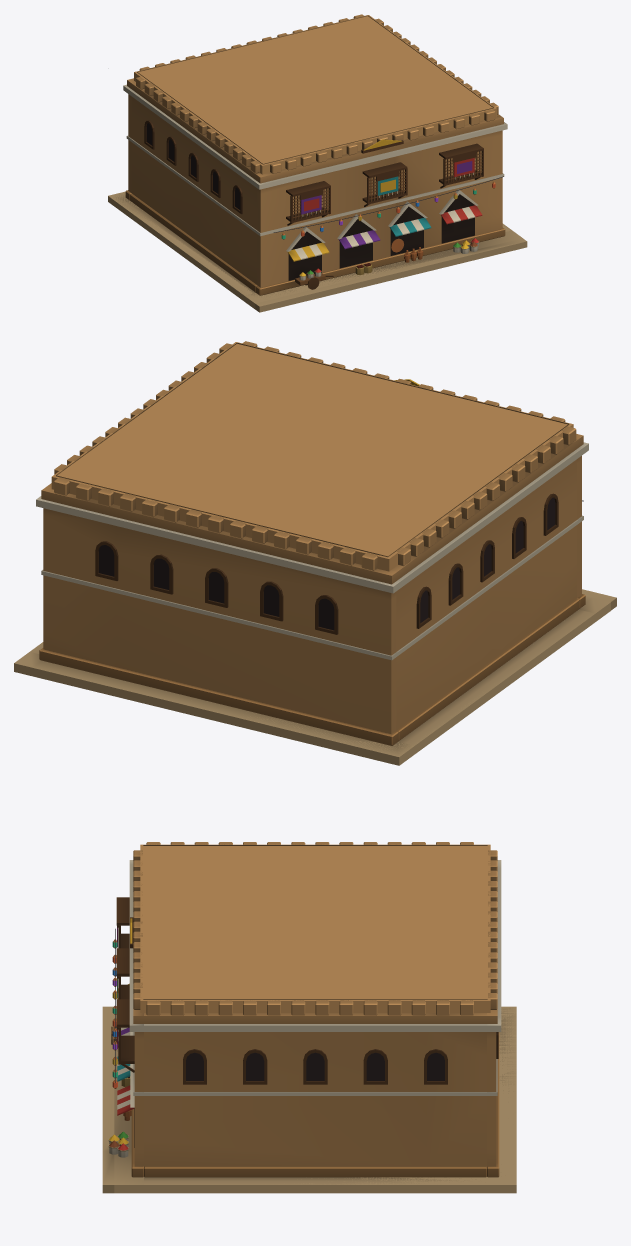
The model's file is GreatSphinxFloor.fbx.
3 renders of one model, top to bottom at view 1: azimuth 30°, elevation 25°; view 2: azimuth 150°, elevation 25°; view 3: azimuth 270°, elevation 25°, orthographic. The views are drawn at different scales.
Visible parts, largest first — view 1: BZ_S_All, BZ_F_Rings, BZ_F_Smooth, BZ_F_Quiet, BZ_F_Props, BZ_F_Glass; view 2: BZ_F_Rings, BZ_S_All, BZ_F_Smooth, BZ_F_Quiet, BZ_F_Glass; view 3: BZ_S_All, BZ_F_Rings, BZ_F_Smooth, BZ_F_Quiet, BZ_F_Glass, BZ_F_Props.
Boxes of the visible parts, bbox=[...] form: BZ_S_All: bbox=[108, 15, 521, 309]; BZ_F_Rings: bbox=[123, 15, 507, 287]; BZ_F_Smooth: bbox=[123, 14, 527, 312]; BZ_F_Quiet: bbox=[110, 190, 526, 306]; BZ_F_Props: bbox=[288, 205, 481, 285]; BZ_F_Glass: bbox=[146, 123, 495, 239]; BZ_F_Rings: bbox=[36, 343, 588, 734]; BZ_S_All: bbox=[14, 342, 610, 765]; BZ_F_Smooth: bbox=[36, 341, 616, 745]; BZ_F_Quiet: bbox=[14, 589, 616, 756]; BZ_F_Glass: bbox=[99, 497, 555, 630]; BZ_S_All: bbox=[114, 844, 516, 1193]; BZ_F_Rings: bbox=[129, 845, 501, 1166]; BZ_F_Smooth: bbox=[102, 842, 501, 1193]; BZ_F_Quiet: bbox=[102, 1006, 516, 1184]; BZ_F_Glass: bbox=[112, 941, 444, 1087]; BZ_F_Props: bbox=[109, 983, 132, 1150].
Size of the model in its own units: 60 by 20 by 60.
